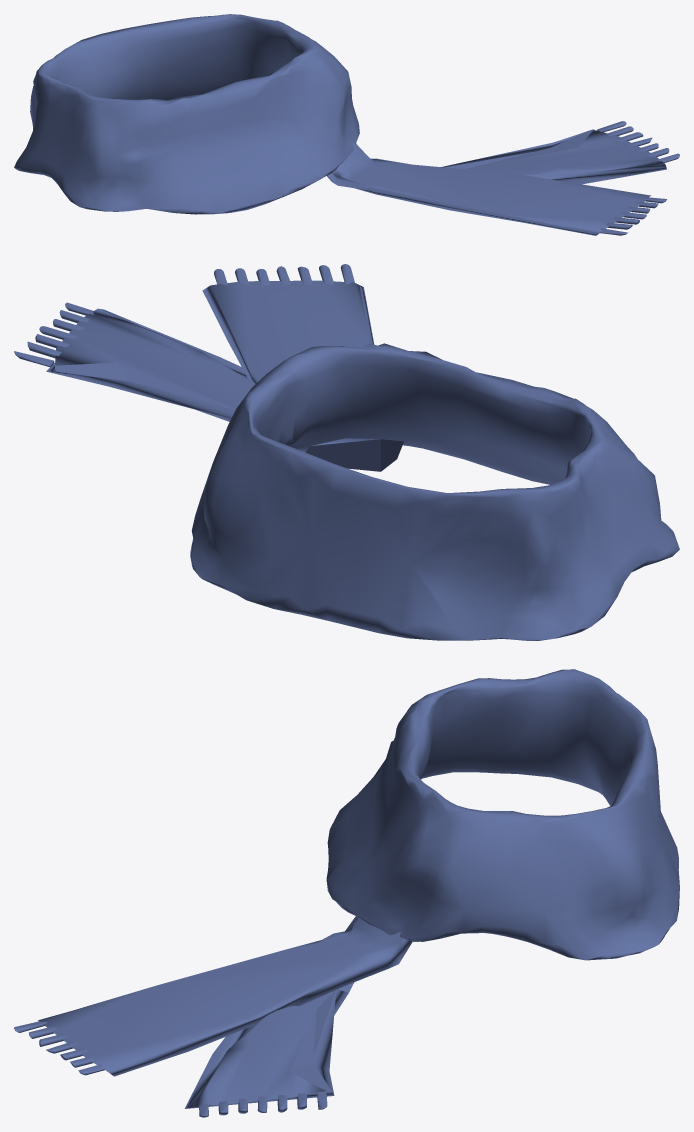
Rendered from マフラー02.fbx.
3 views of the same model, one above another, from view 1: azimuth 30°, elevation 25°; view 2: azimuth 150°, elevation 25°; view 3: azimuth 270°, elevation 25° (orthographic). The views are drawn at different scales.
Parts seen in each view (by area): view 1: polySurface55; view 2: polySurface55; view 3: polySurface55.
Boxes of the visible parts, left/top/right/bottom form: polySurface55: left=14, top=14, right=679, bottom=235; polySurface55: left=14, top=264, right=679, bottom=640; polySurface55: left=14, top=669, right=679, bottom=1117.
Bounding box in the file's own units: 34.88 × 7.48 × 29.54.
